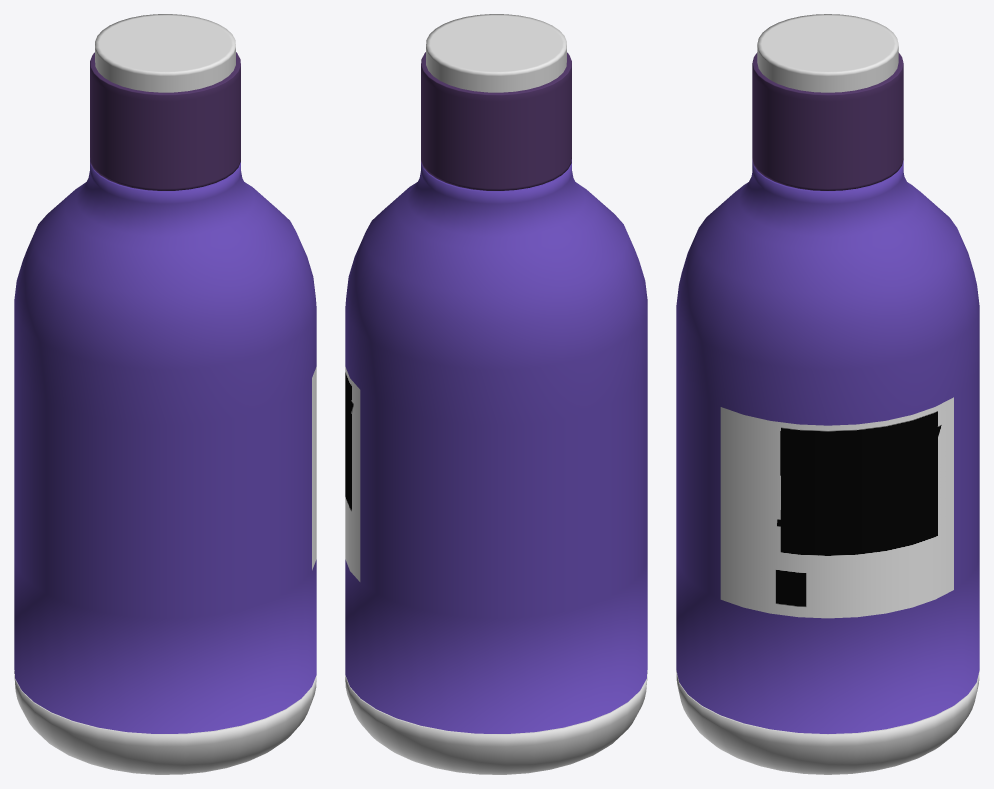
Rendered from water-bottle.glb.
3 views of the same model, side by side, from view 1: azimuth 30°, elevation 25°; view 2: azimuth 150°, elevation 25°; view 3: azimuth 270°, elevation 25° (orthographic).
Parts seen in each view (by area): view 1: Cylinder; view 2: Cylinder; view 3: Cylinder.
Part boxes in pixels (x1,y1,x2,y2): Cylinder: [14, 14, 316, 774]; Cylinder: [345, 14, 647, 774]; Cylinder: [676, 14, 979, 774].
Bounding box in the file's own units: 1.78 × 4.44 × 1.78.
4 materials, 1 textured.
